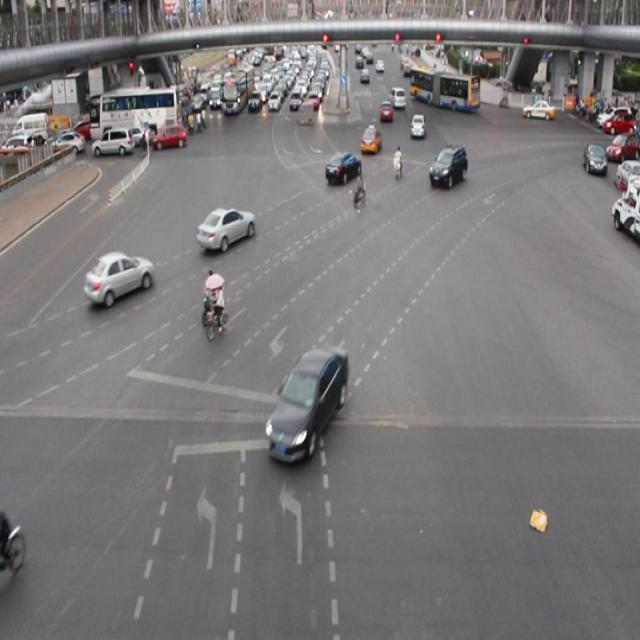car: (266, 348, 348, 454), (83, 250, 155, 306), (196, 203, 256, 254), (426, 144, 467, 188), (324, 148, 362, 186), (357, 122, 382, 154)
